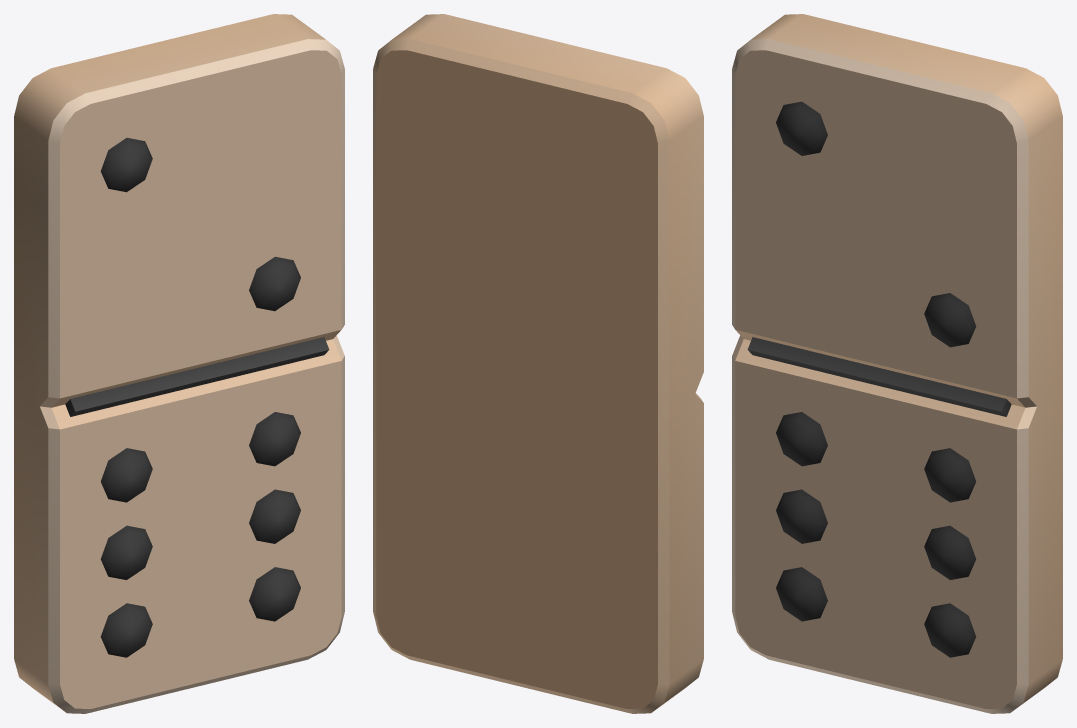
Rendered from KFB_Domino_2-6.r1.glb.
The picture shows the model from 3 angles, left to right: view 1: azimuth 30°, elevation 25°; view 2: azimuth 150°, elevation 25°; view 3: azimuth 330°, elevation 25°; orthographic projection.
Parts seen in each view (by area): view 1: KFB_Domino_2-6; view 2: KFB_Domino_2-6; view 3: KFB_Domino_2-6.
Boxes of the visible parts, <box> form: KFB_Domino_2-6: <box>14,14,344,713</box>; KFB_Domino_2-6: <box>373,14,703,713</box>; KFB_Domino_2-6: <box>732,14,1062,713</box>.
Size of the model in its own units: 2.44 by 4.87 by 0.6739.
1 material, 1 textured.
